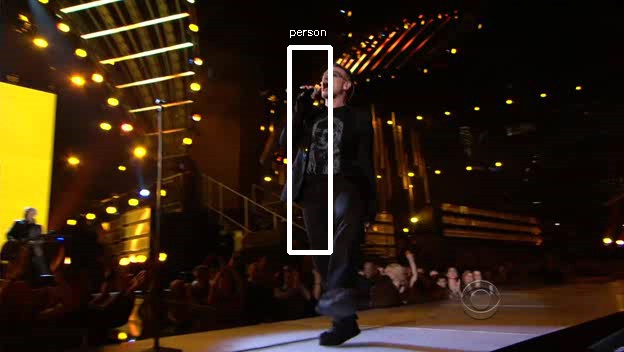person: (287, 66, 367, 237), (284, 66, 364, 237), (290, 66, 370, 237), (287, 63, 367, 234), (287, 69, 367, 240)
target_negative: (102, 19, 249, 344), (429, 19, 609, 173), (546, 120, 616, 217), (470, 68, 516, 191), (570, 188, 592, 275), (505, 111, 539, 162)
